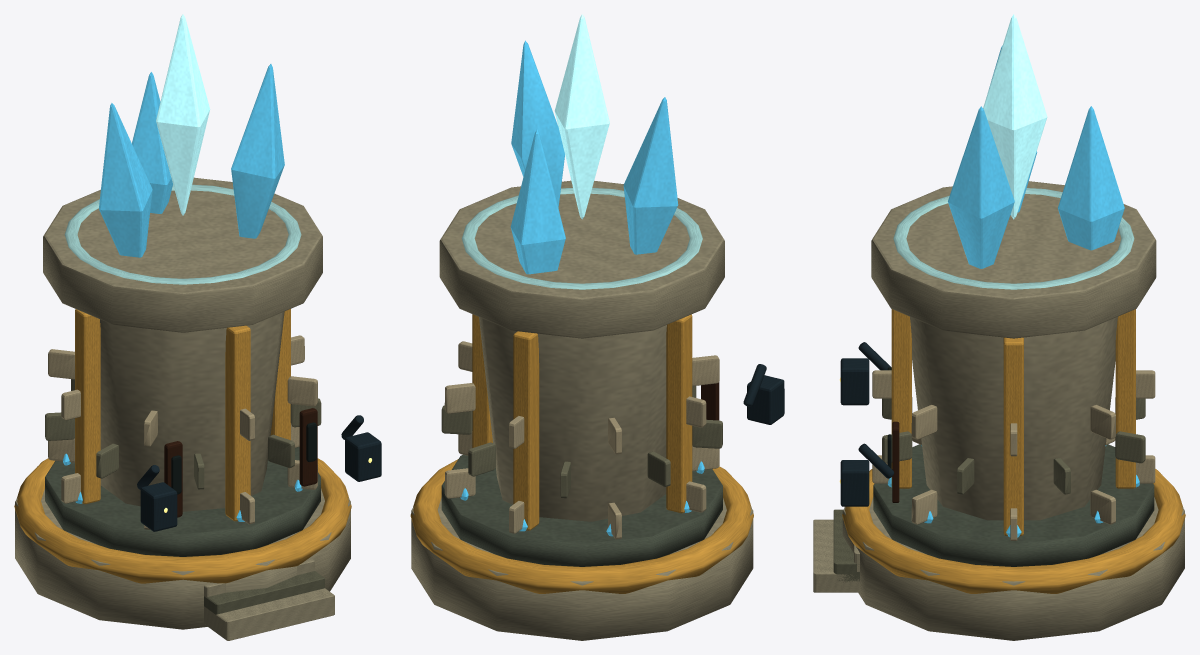
File: tower-frost-1-base.glb
3 renders of one model, left to right at view 1: azimuth 30°, elevation 25°; view 2: azimuth 150°, elevation 25°; view 3: azimuth 270°, elevation 25°, orthographic.
Visible parts, largest first — view 1: Foundation, Turret, frost-L1-base; view 2: Foundation, Turret, frost-L1-base; view 3: Foundation, Turret, frost-L1-base.
Boxes of the visible parts, <box> form: Foundation: <box>14,309,381,640</box>; Turret: <box>43,14,322,332</box>; frost-L1-base: <box>15,447,350,629</box>; Foundation: <box>410,314,784,593</box>; Turret: <box>439,14,724,338</box>; frost-L1-base: <box>411,454,753,640</box>; Foundation: <box>813,309,1185,593</box>; Turret: <box>871,14,1156,338</box>; frost-L1-base: <box>842,444,1184,640</box>.
Bounding box in the file's own units: 1.69 × 3.01 × 1.83.
14 materials, 14 textured.
